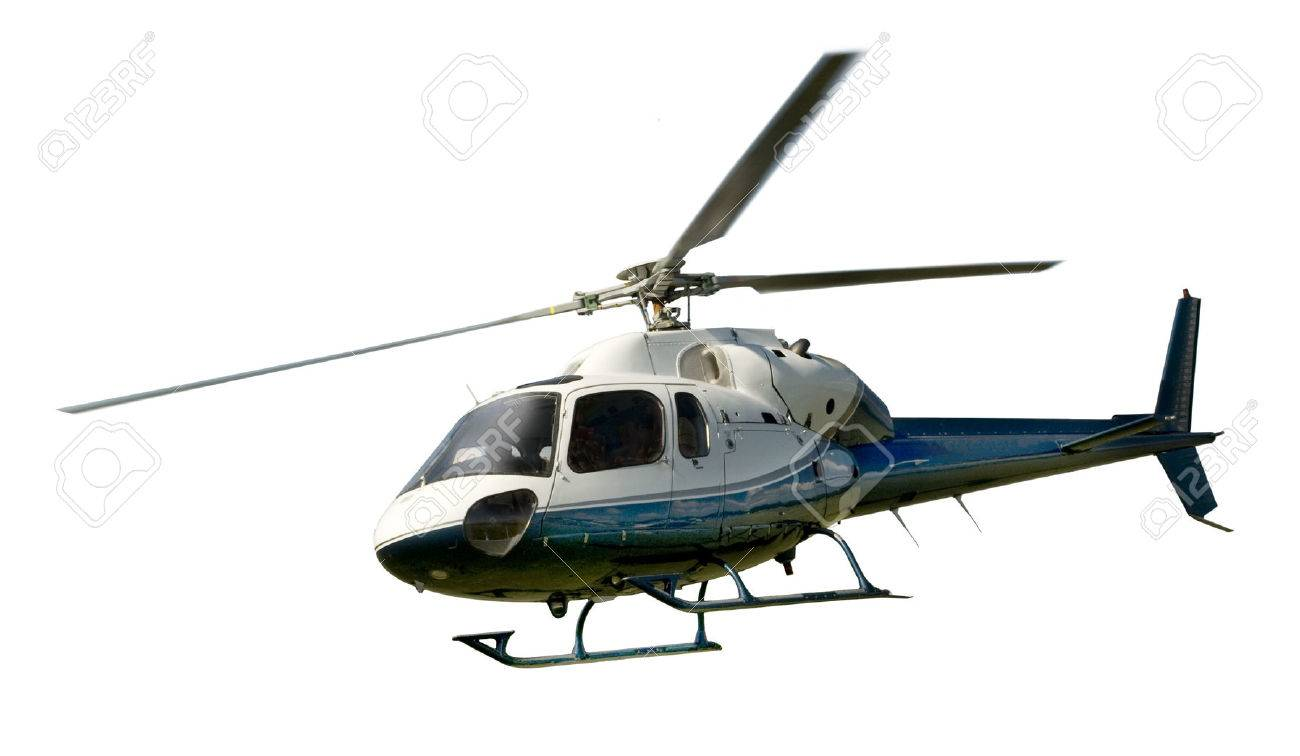Helicopter: (362, 237, 1212, 666)
